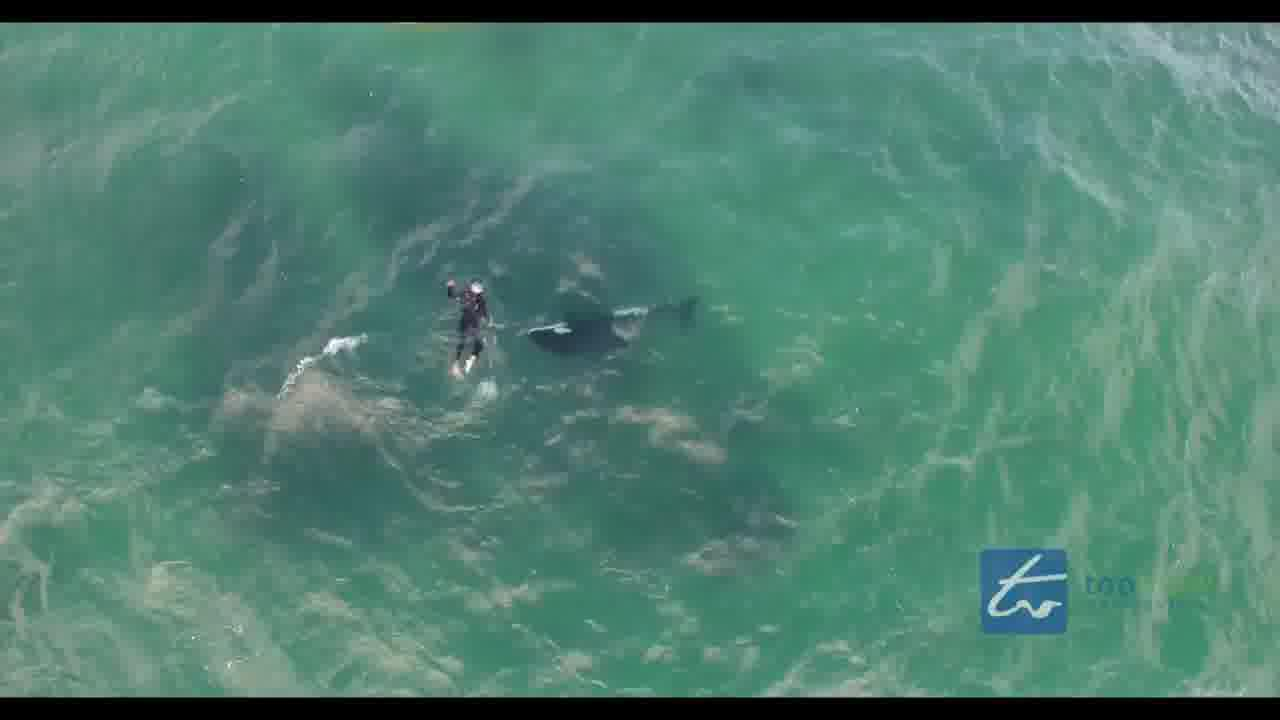human: (443, 274, 500, 381)
